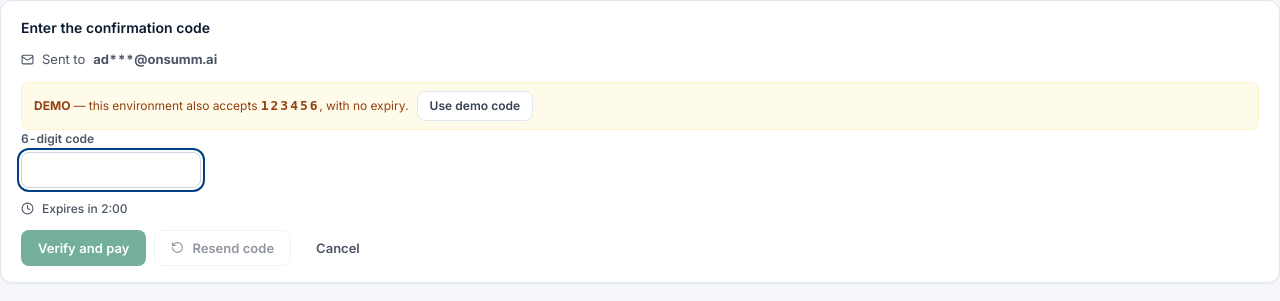
confirmation code step › shows the demo code and fills it in one click, only when the backend offers one
This screenshot has width=1280, height=301.
Expected: the text "123456" is shown, [261, 98, 320, 113]
Click the button "Use demo code".
click(475, 106)  # box [417, 90, 533, 120]
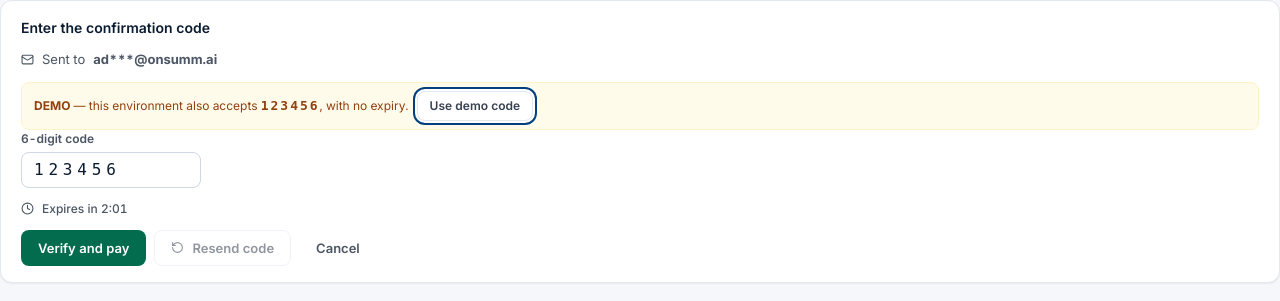
Now the field labelled "6-digit code" holds "123456", box [21, 152, 201, 188]
